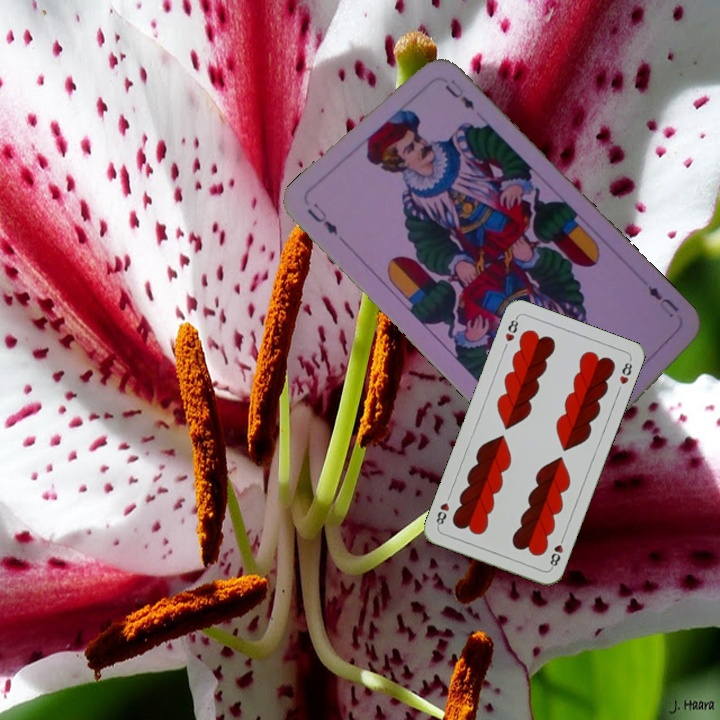EU: (303, 199, 341, 239), (643, 282, 682, 315)
H8: (546, 532, 567, 571), (501, 313, 521, 344)
